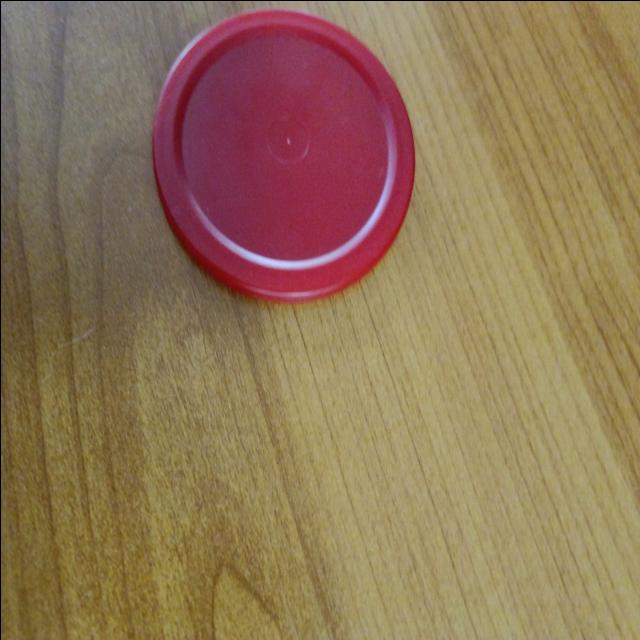chip: (148, 8, 412, 306), (266, 118, 304, 160)
